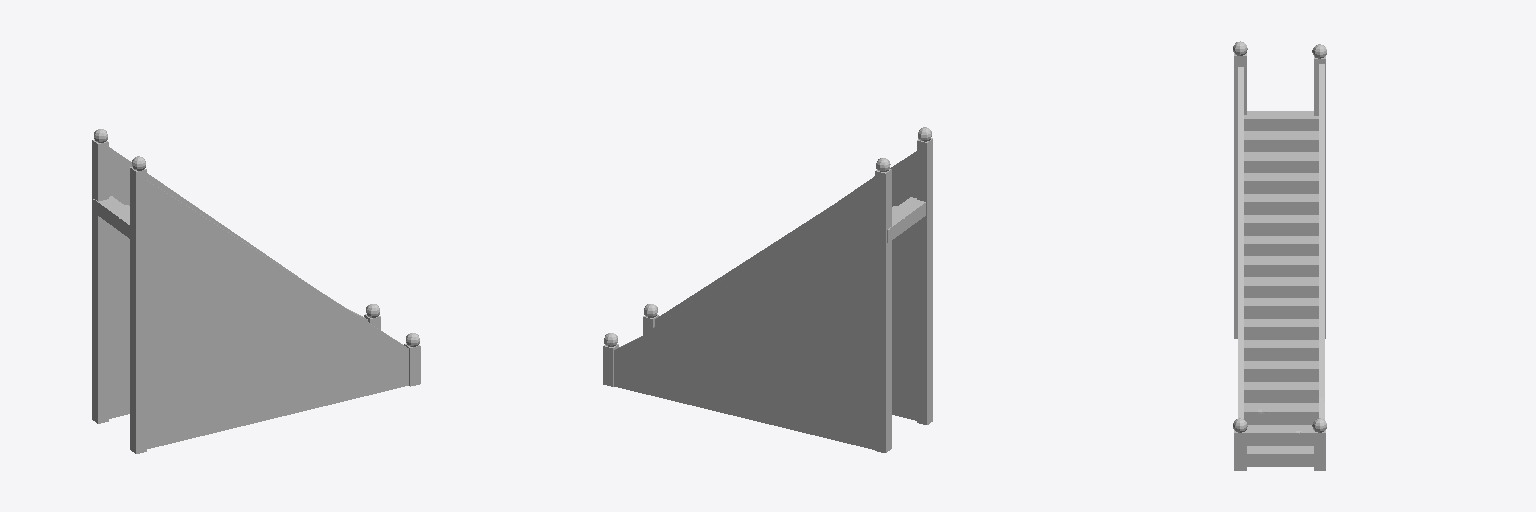
Rendered from LongStairs.obj.
3 renders of one model, left to right at view 1: azimuth 30°, elevation 25°; view 2: azimuth 150°, elevation 25°; view 3: azimuth 270°, elevation 25°, orthographic.
Visible parts, largest first — view 1: polySurface45; view 2: polySurface45; view 3: polySurface45.
Part boxes in pixels (bbox=[...]): polySurface45: bbox=[92, 129, 420, 453]; polySurface45: bbox=[603, 127, 932, 452]; polySurface45: bbox=[1233, 41, 1326, 470].
Size of the model in its own units: 17.38 by 17 by 4.97.